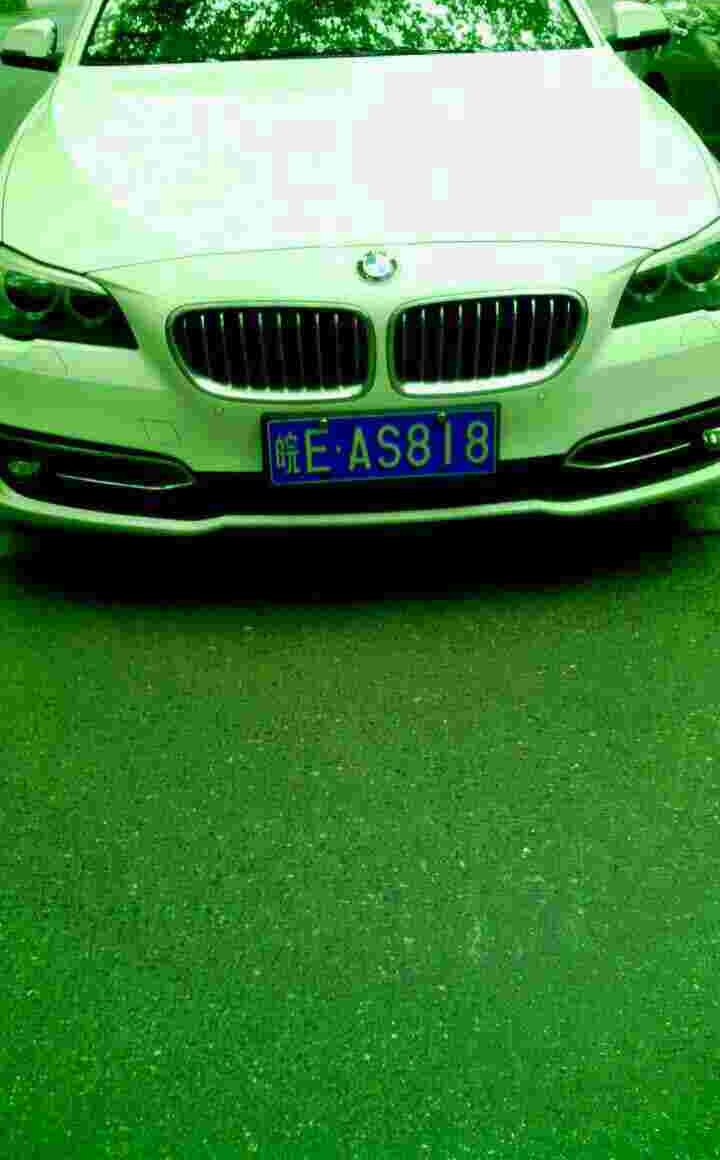plate: (270, 404, 502, 490)
